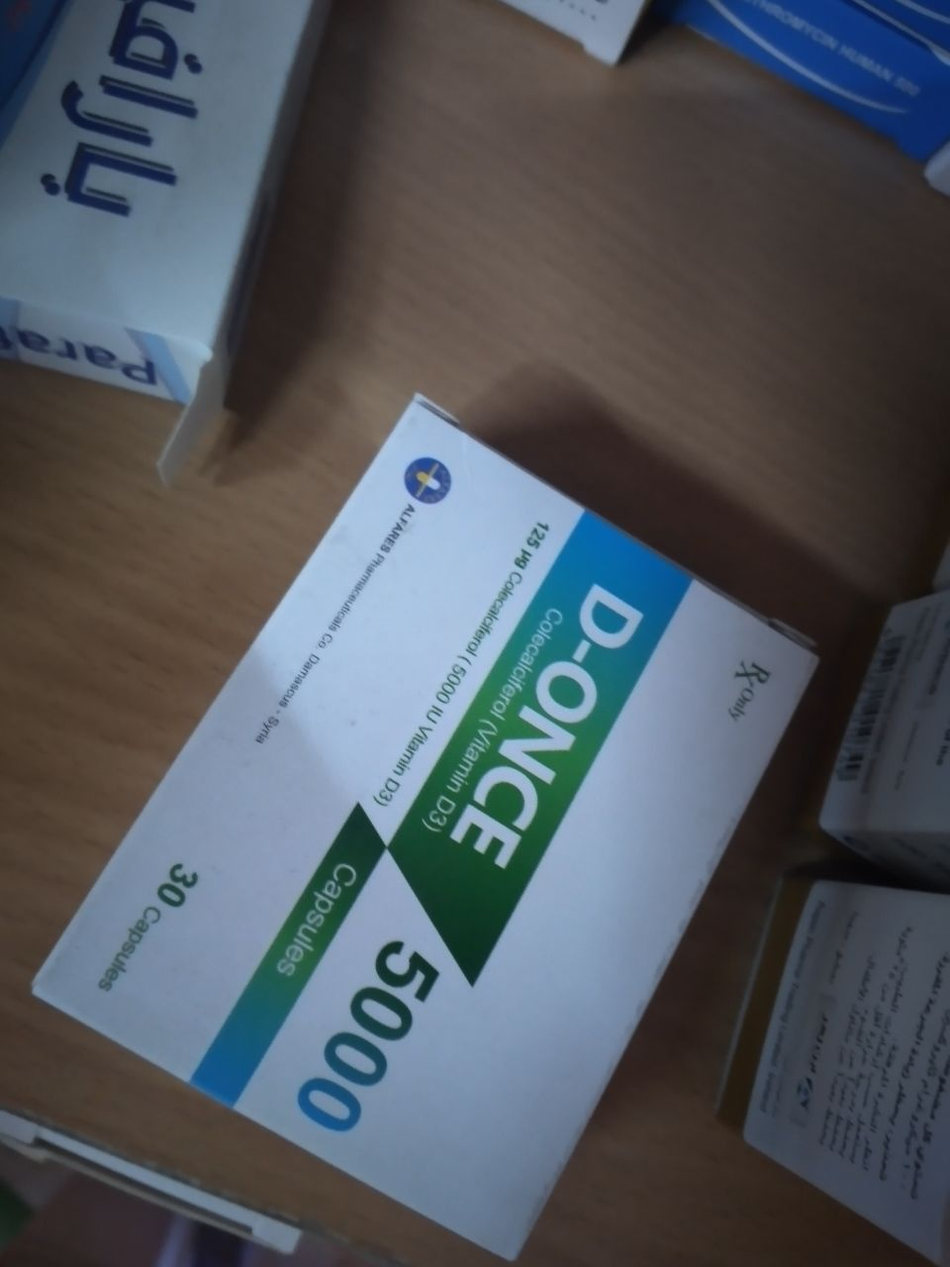Medicine: (26, 386, 858, 1251)
